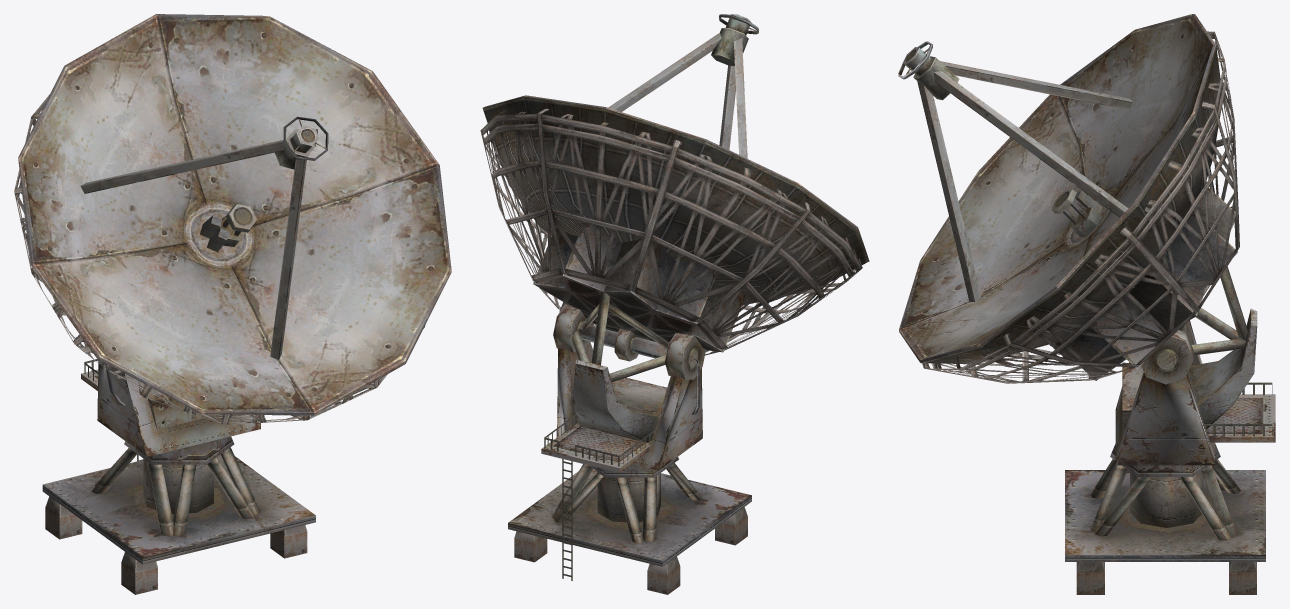
The model's file is Building_JyzLd001.glb.
The picture shows the model from 3 angles, left to right: view 1: azimuth 30°, elevation 25°; view 2: azimuth 150°, elevation 25°; view 3: azimuth 270°, elevation 25°; orthographic projection. The views are drawn at different scales.
Visible parts, largest first — view 1: jyz_ld001_0; view 2: jyz_ld001_0; view 3: jyz_ld001_0.
Boxes of the visible parts, bbox=[...] form: jyz_ld001_0: bbox=[14, 14, 451, 594]; jyz_ld001_0: bbox=[480, 14, 869, 594]; jyz_ld001_0: bbox=[898, 14, 1275, 594].
Size of the model in its own units: 78.74 by 94.02 by 62.61.
Materials: 2 (2 with a texture image).
